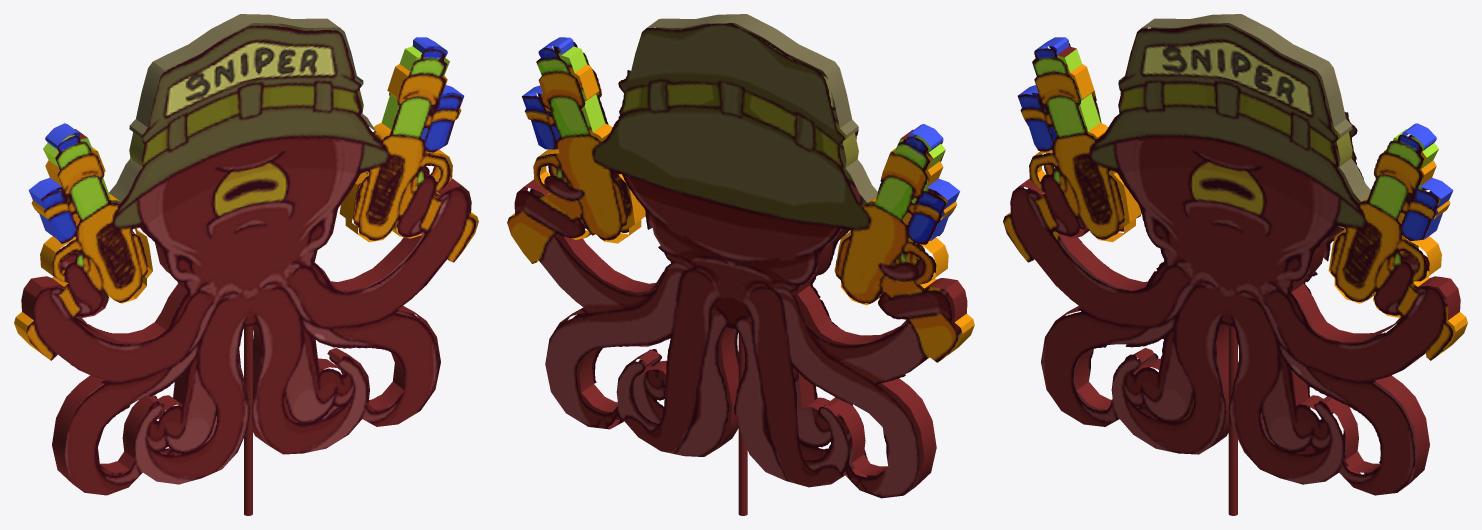
The model's file is Poulpe.fbx.
3 views of the same model, side by side, from view 1: azimuth 30°, elevation 25°; view 2: azimuth 150°, elevation 25°; view 3: azimuth 330°, elevation 25° (orthographic).
Parts seen in each view (by area): view 1: Plane.001; view 2: Plane.001; view 3: Plane.001.
Part boxes in pixels (left/top/right/bottom): Plane.001: left=14, top=14, right=478, bottom=515; Plane.001: left=507, top=14, right=974, bottom=515; Plane.001: left=1003, top=14, right=1467, bottom=515.
Size of the model in its own units: 268 by 279 by 12.54.
